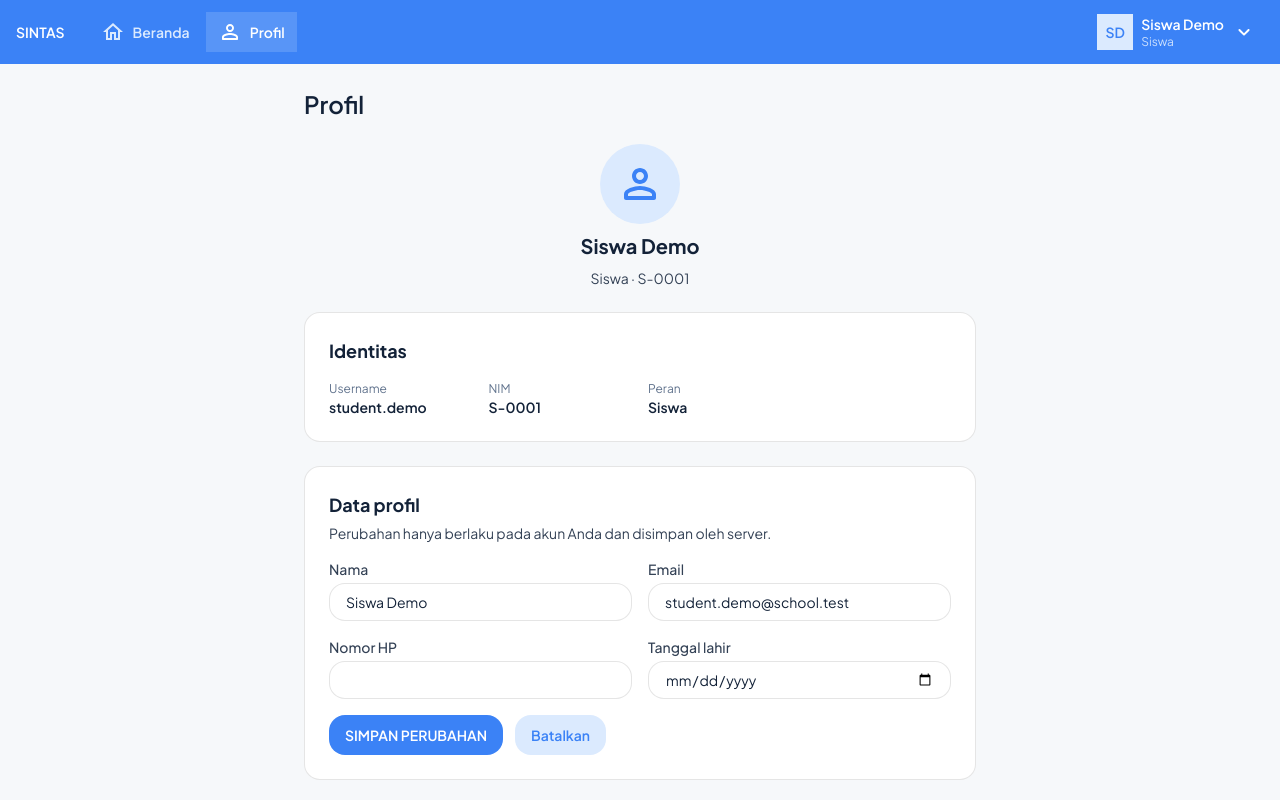
Test: halaman profil › menampilkan error field dari server pada field terkait
expect the heading "Profil" is shown: met, box [304, 89, 364, 119]
Replace the text in the field labelled "Email" with "lain@school.test" at [800, 602], box [648, 583, 951, 621]
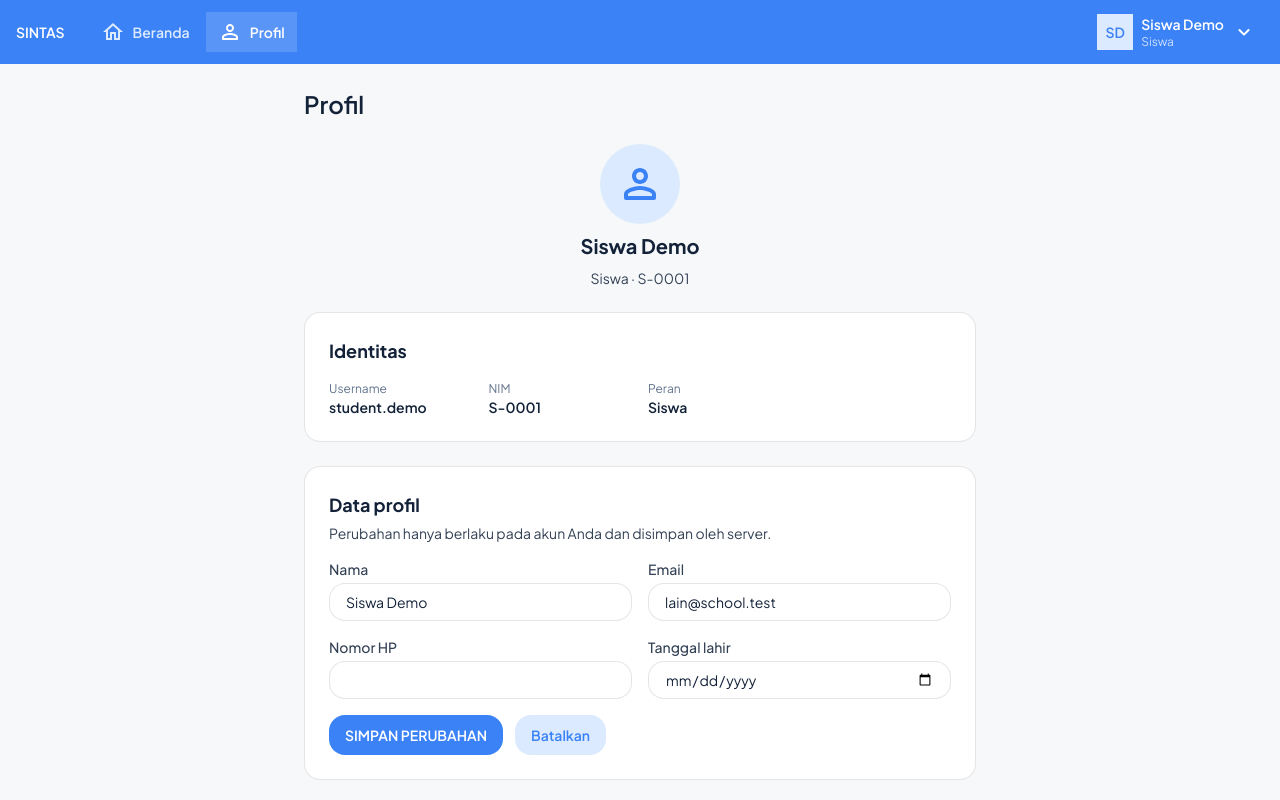
Click the button "Simpan perubahan" at [416, 735], box [329, 715, 503, 755]
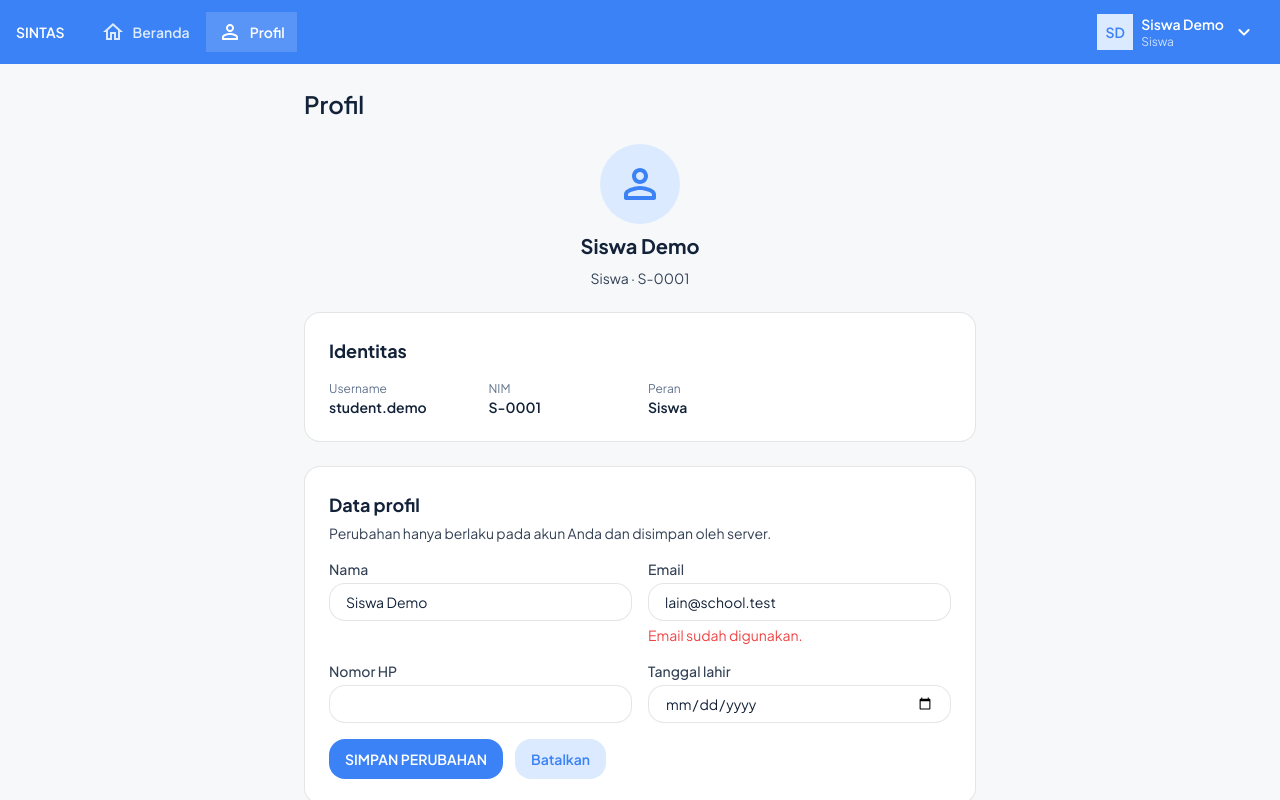
expect the text "Email sudah digunakan." is shown: met, box [648, 626, 802, 644]
